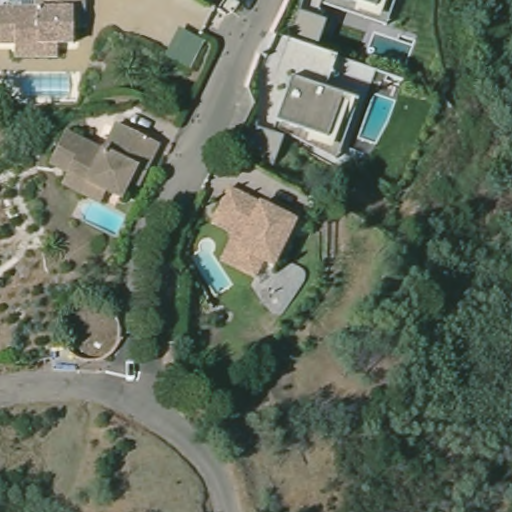pool: (190, 236, 231, 295), (358, 94, 398, 146), (14, 71, 76, 101), (84, 199, 130, 234), (368, 32, 412, 65)
